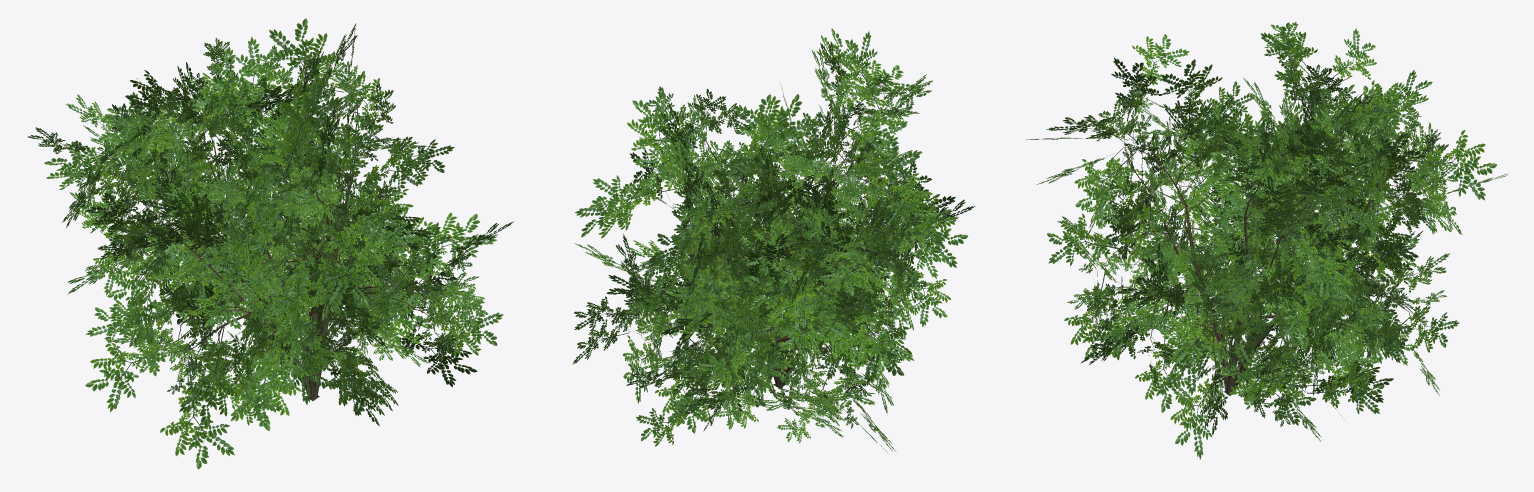
The model's file is bush_coarse.glb.
3 renders of one model, left to right at view 1: azimuth 30°, elevation 25°; view 2: azimuth 150°, elevation 25°; view 3: azimuth 270°, elevation 25°, orthographic. The views are drawn at different scales.
Parts seen in each view (by area): view 1: Tree; view 2: Tree; view 3: Tree.
Boxes of the visible parts, x1,y1,x2,y2 form: Tree: (28,18,514,469); Tree: (572,28,975,452); Tree: (1026,22,1507,459).
Bounding box in the file's own units: 34.93 × 31.07 × 36.94.
2 materials, 2 textured.
